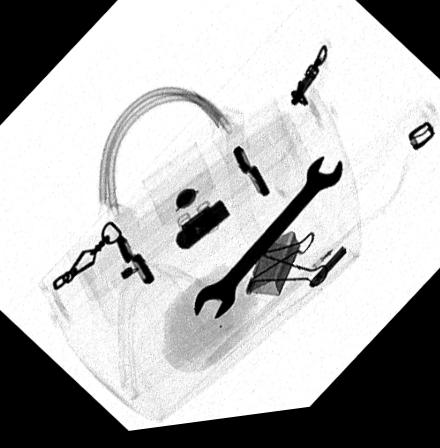Wrench: (191, 163, 342, 327)
